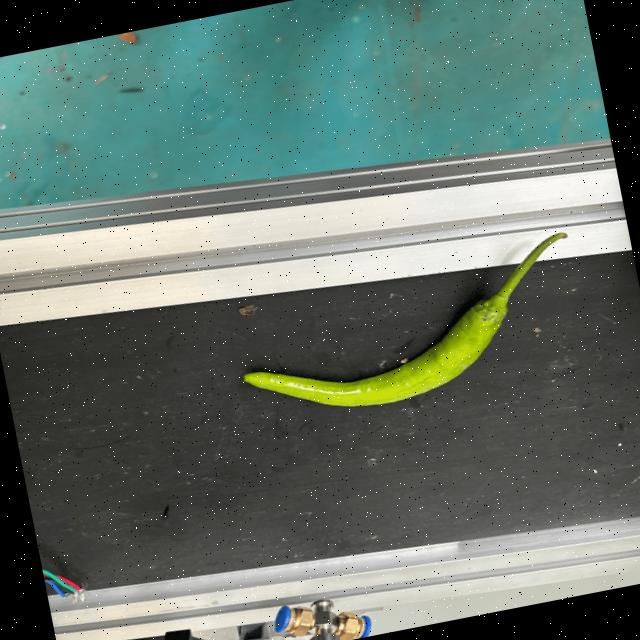chili: (237, 296, 510, 410)
